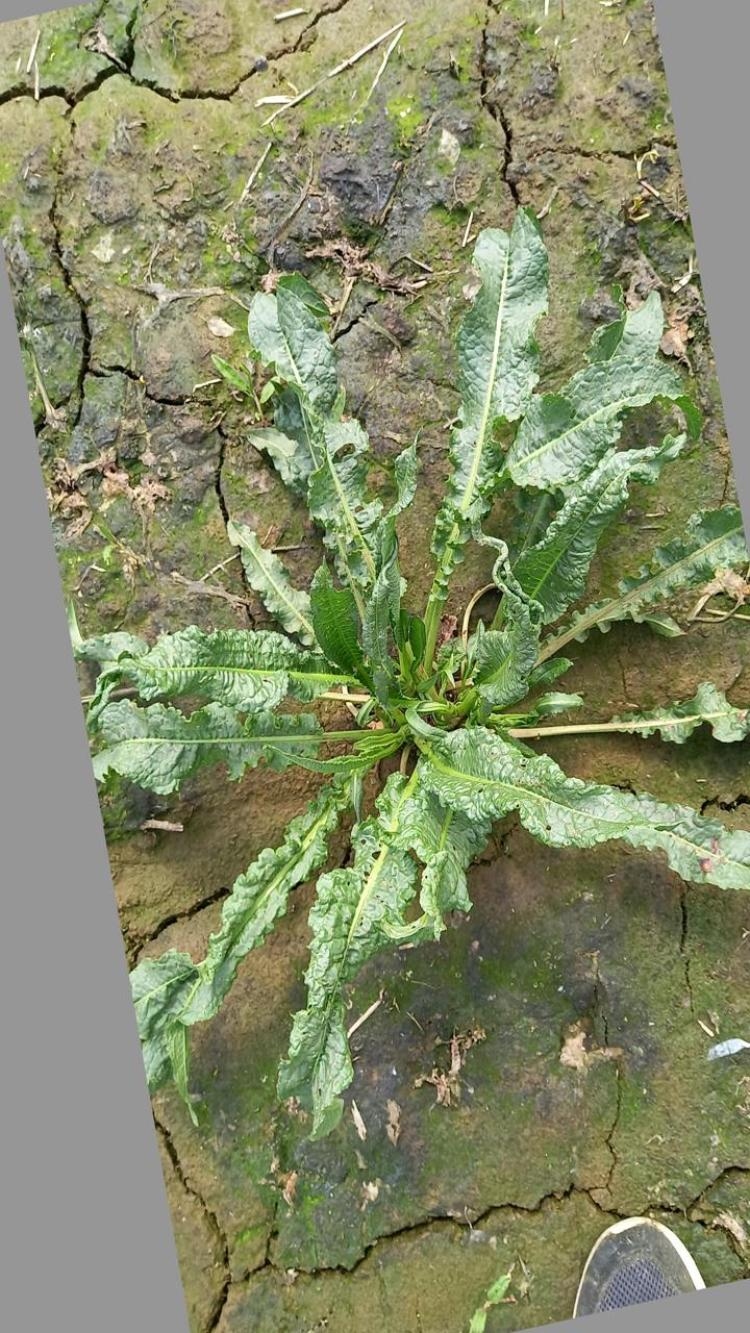zhavel: (71, 208, 750, 1143)
